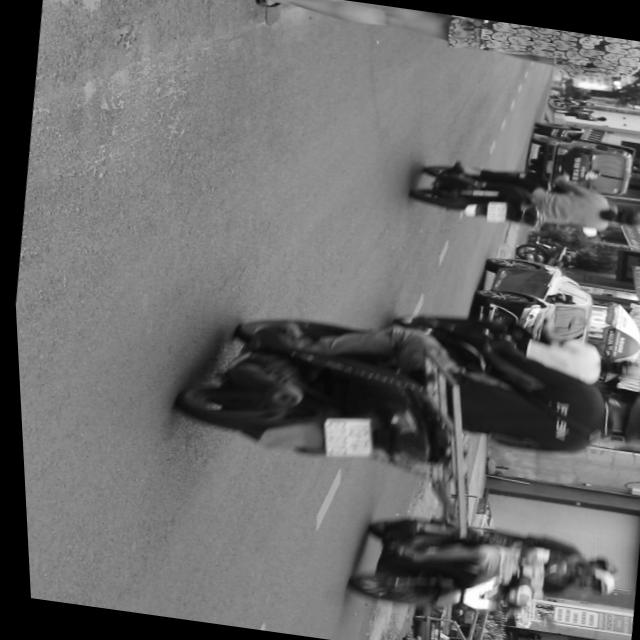helmet: (562, 566, 613, 600), (595, 356, 640, 384), (606, 206, 640, 231)
licenseplate: (163, 288, 640, 511), (332, 501, 624, 640), (375, 302, 640, 400), (402, 154, 640, 248)
motorcyclist: (598, 396, 640, 446)
nohelmet: (317, 416, 371, 464), (484, 202, 506, 224)
